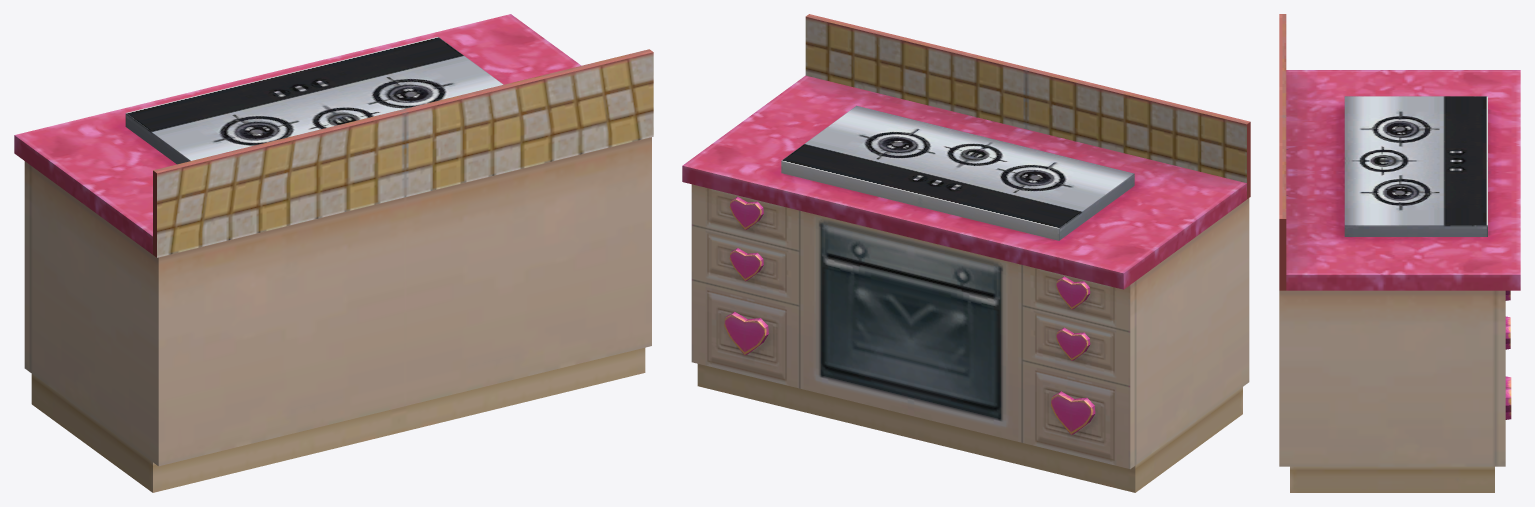
Rendered from furni_0200018.FBX.
The picture shows the model from 3 angles, left to right: view 1: azimuth 30°, elevation 25°; view 2: azimuth 150°, elevation 25°; view 3: azimuth 270°, elevation 25°; orthographic projection. The views are drawn at different scales.
Visible parts, largest first — view 1: furni_0200018; view 2: furni_0200018; view 3: furni_0200018.
Part boxes in pixels (box(x1,y1,x2,y2)): furni_0200018: box(14, 14, 653, 492); furni_0200018: box(682, 14, 1250, 492); furni_0200018: box(1279, 14, 1520, 492).
Size of the model in its own units: 161 by 100 by 80.
